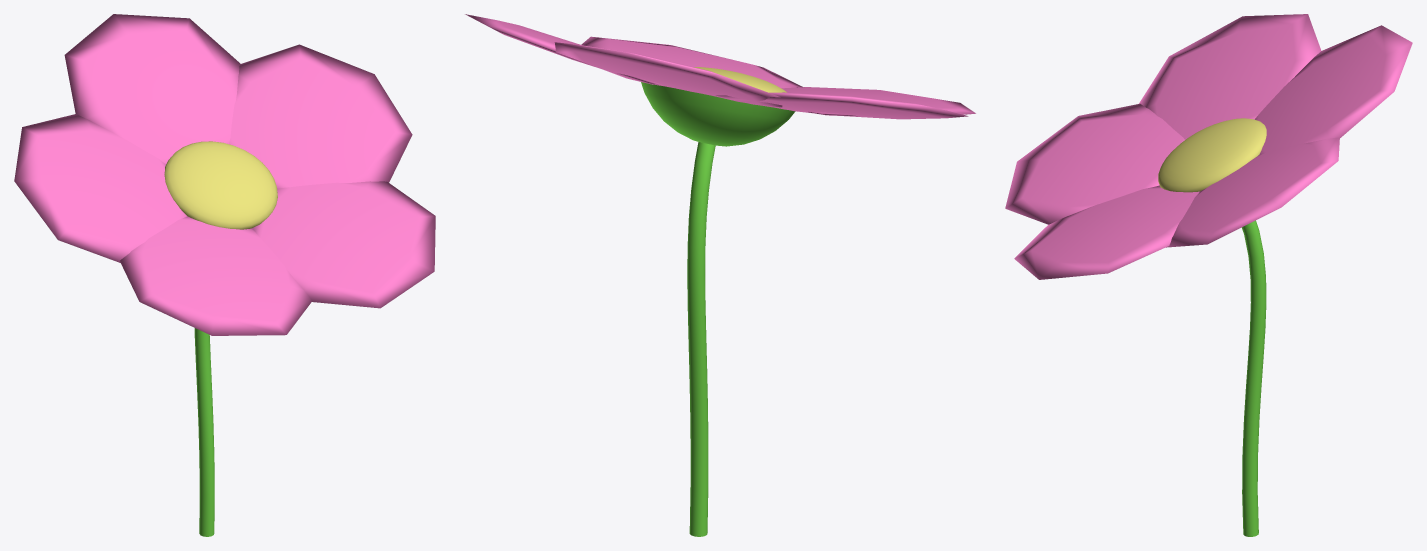
File: Flower_3.fbx
The picture shows the model from 3 angles, left to right: view 1: azimuth 30°, elevation 25°; view 2: azimuth 150°, elevation 25°; view 3: azimuth 270°, elevation 25°; orthographic projection. The views are drawn at different scales.
Visible parts, largest first — view 1: ベジエカーブ; view 2: ベジエカーブ; view 3: ベジエカーブ.
Part boxes in pixels (left/top/right/bottom): ベジエカーブ: left=14, top=14, right=435, bottom=536; ベジエカーブ: left=465, top=14, right=975, bottom=536; ベジエカーブ: left=1005, top=14, right=1412, bottom=536.
Bounding box in the file's own units: 439 × 514 × 392.
